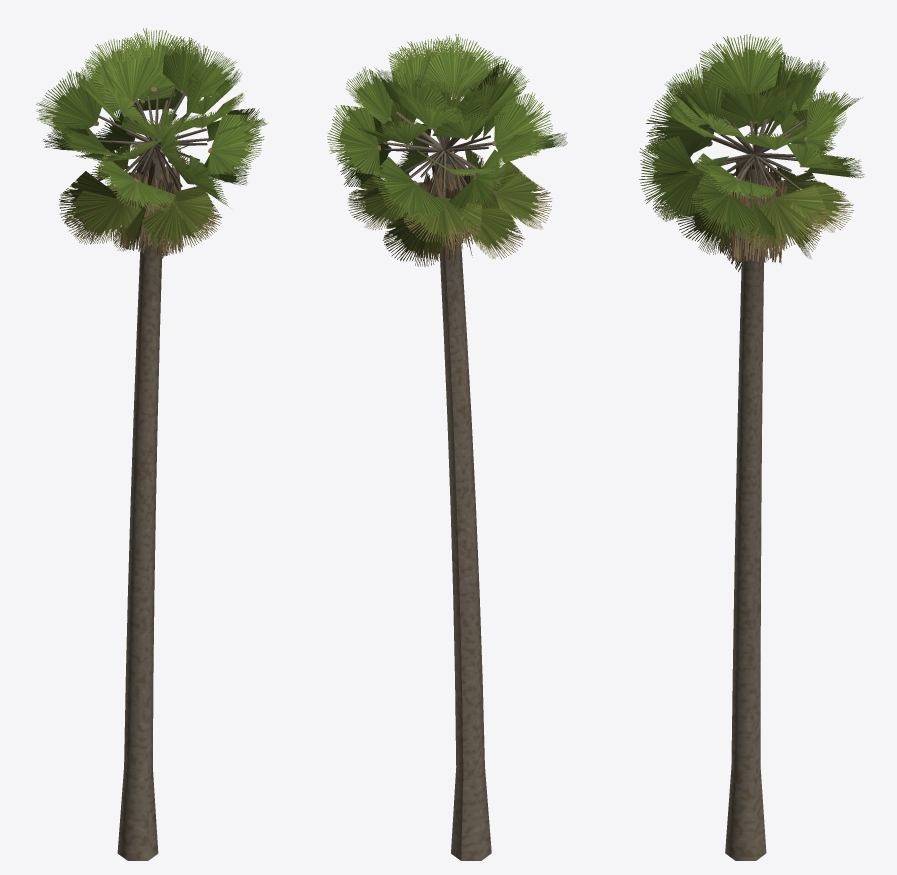
The model's file is tree_palm_fan.glb.
3 views of the same model, side by side, from view 1: azimuth 30°, elevation 25°; view 2: azimuth 150°, elevation 25°; view 3: azimuth 270°, elevation 25° (orthographic).
Visible parts, largest first — view 1: tree_palm_fan; view 2: tree_palm_fan; view 3: tree_palm_fan.
Boxes of the visible parts, left/top/right/bottom form: tree_palm_fan: left=36, top=28, right=267, bottom=860; tree_palm_fan: left=327, top=34, right=567, bottom=860; tree_palm_fan: left=639, top=34, right=864, bottom=860.
Size of the model in its own units: 5.88 by 19.78 by 5.76.
1 material, 1 textured.
